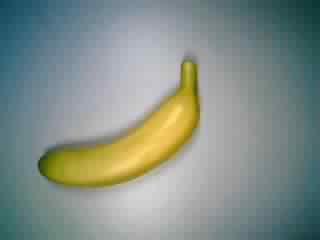banana: (31, 55, 207, 191)
